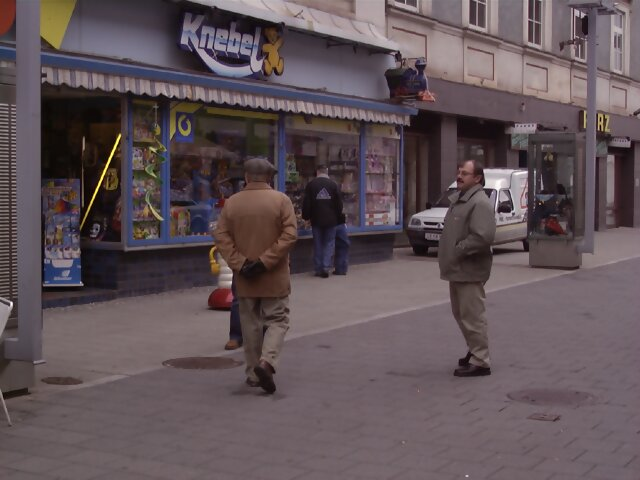person: (211, 158, 309, 388), (429, 154, 506, 373), (301, 159, 343, 279)
